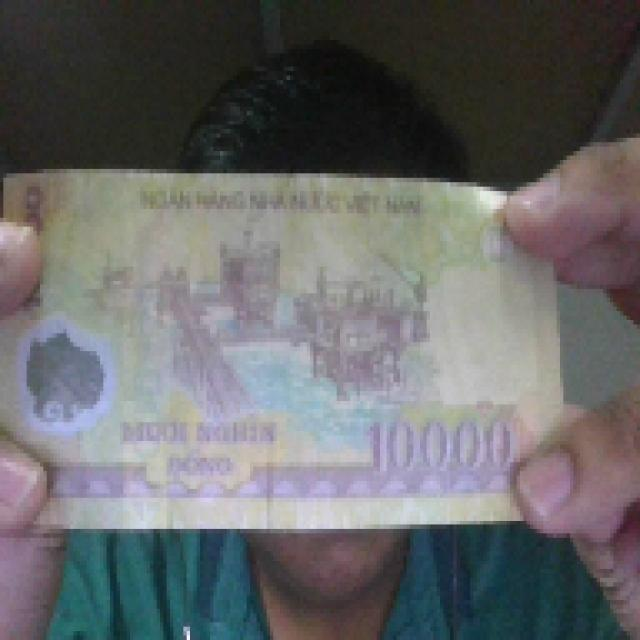10 000 VND: (0, 161, 570, 534)
